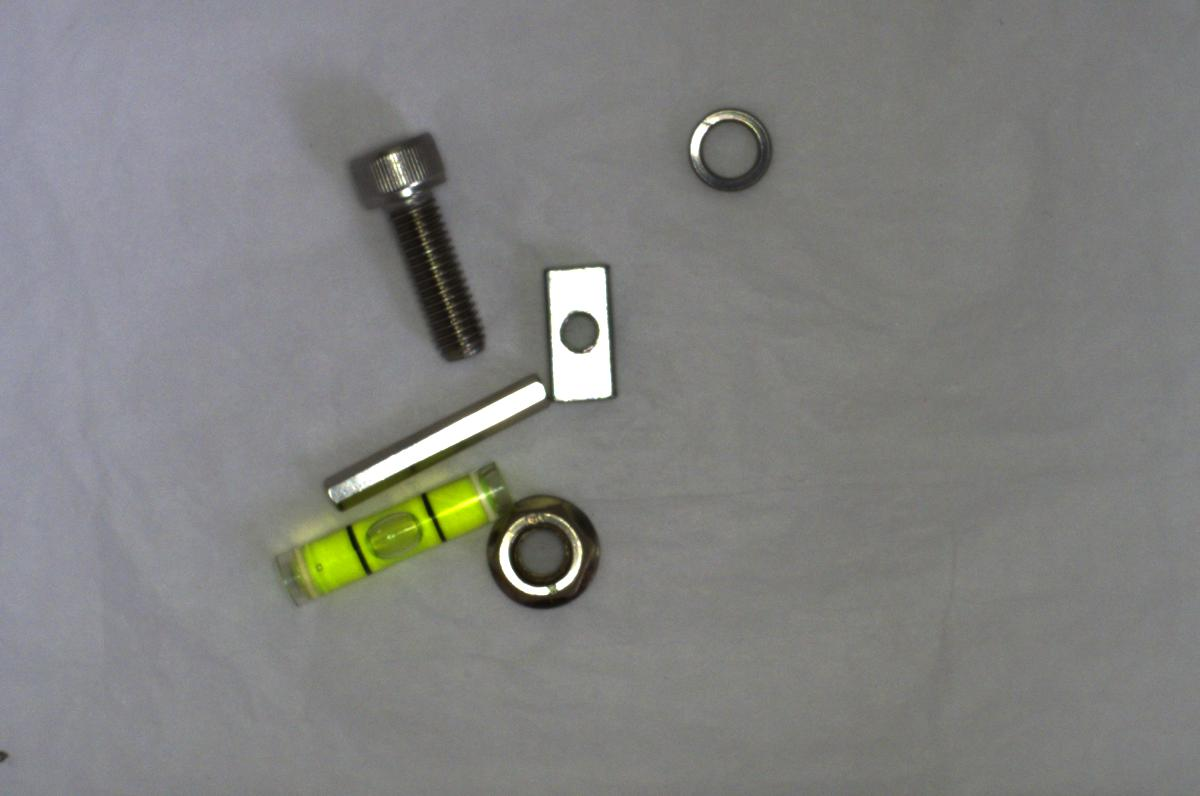Double hexagonal column: (305, 368, 552, 510)
Flange nut: (468, 487, 607, 619)
Hexagon screw: (348, 116, 494, 365)
Horizontal bubble: (275, 459, 511, 605)
Rectangular nut: (537, 254, 619, 412)
Spring washer: (675, 96, 788, 213)
